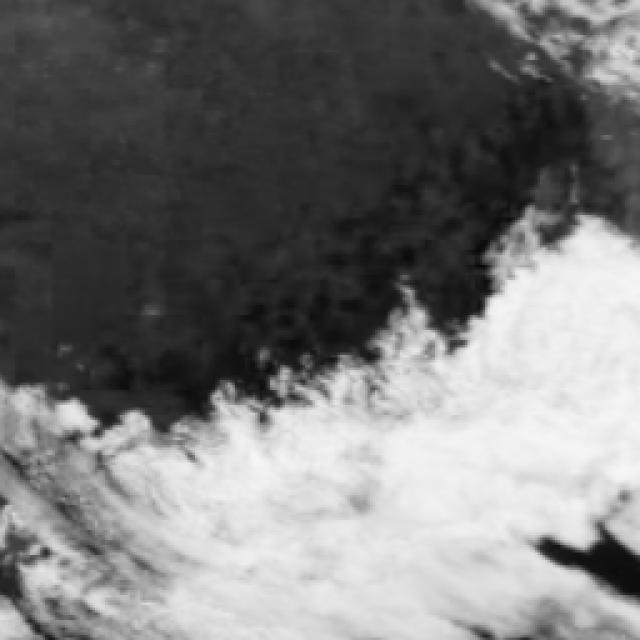CB: (532, 270, 640, 479), (401, 411, 513, 560)
